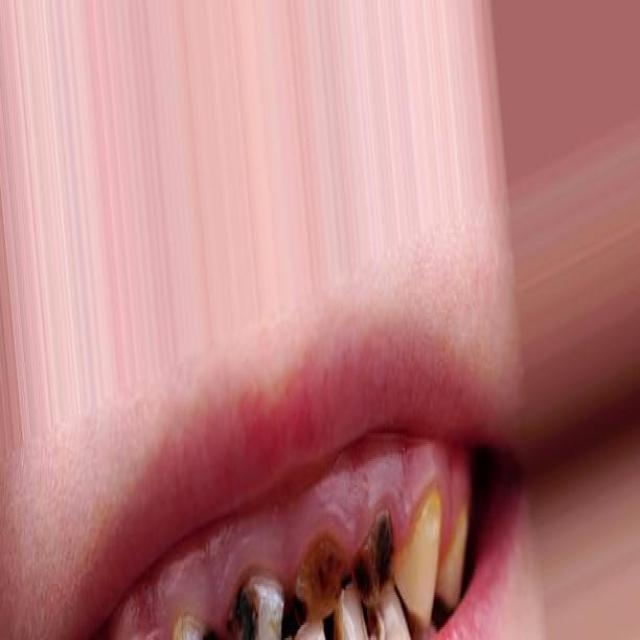caries: (291, 522, 344, 630), (350, 494, 396, 616), (218, 562, 288, 640), (353, 597, 393, 640)
